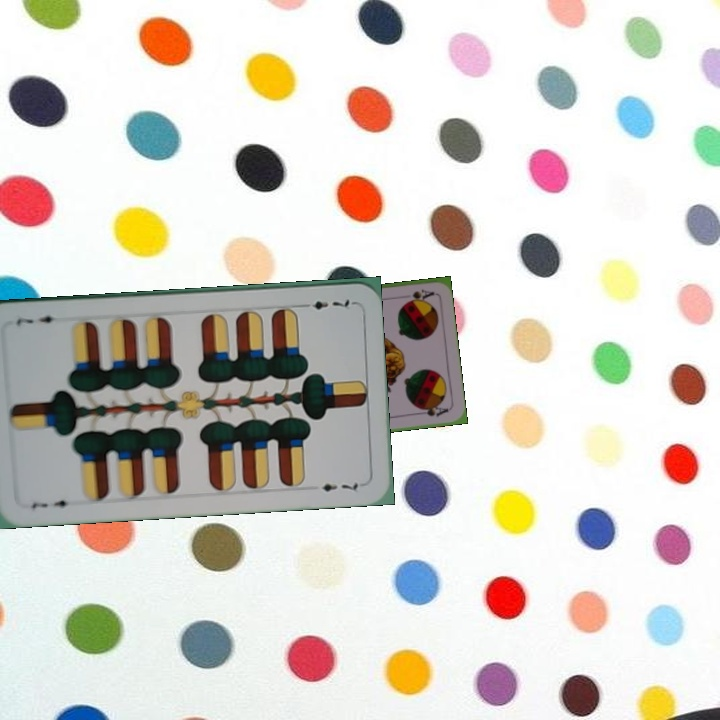E7: (297, 295, 356, 312), (28, 495, 78, 511)
SA: (403, 285, 436, 304)
